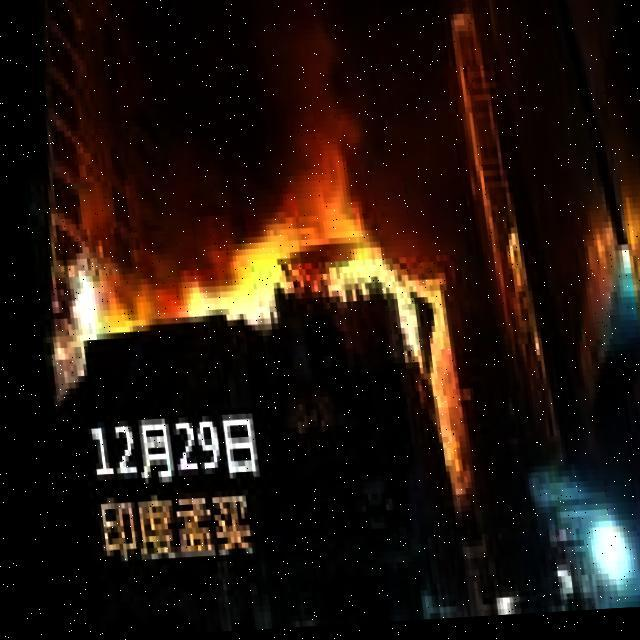Fire: (52, 168, 413, 330)
